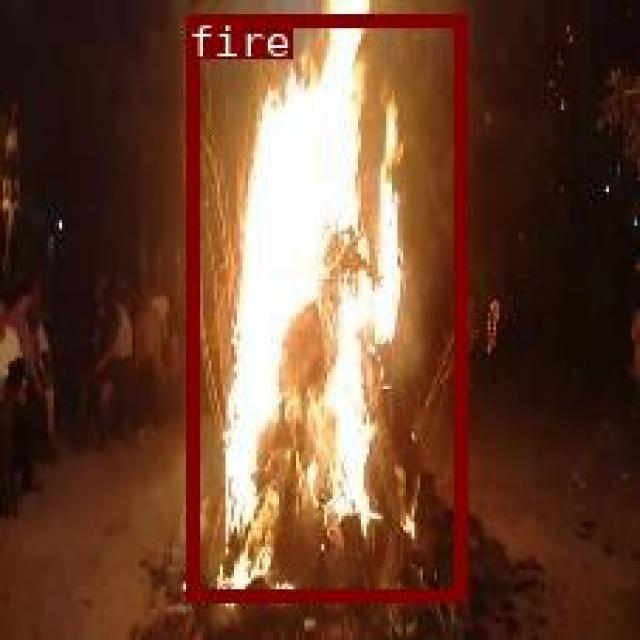fire: (183, 13, 463, 600)
